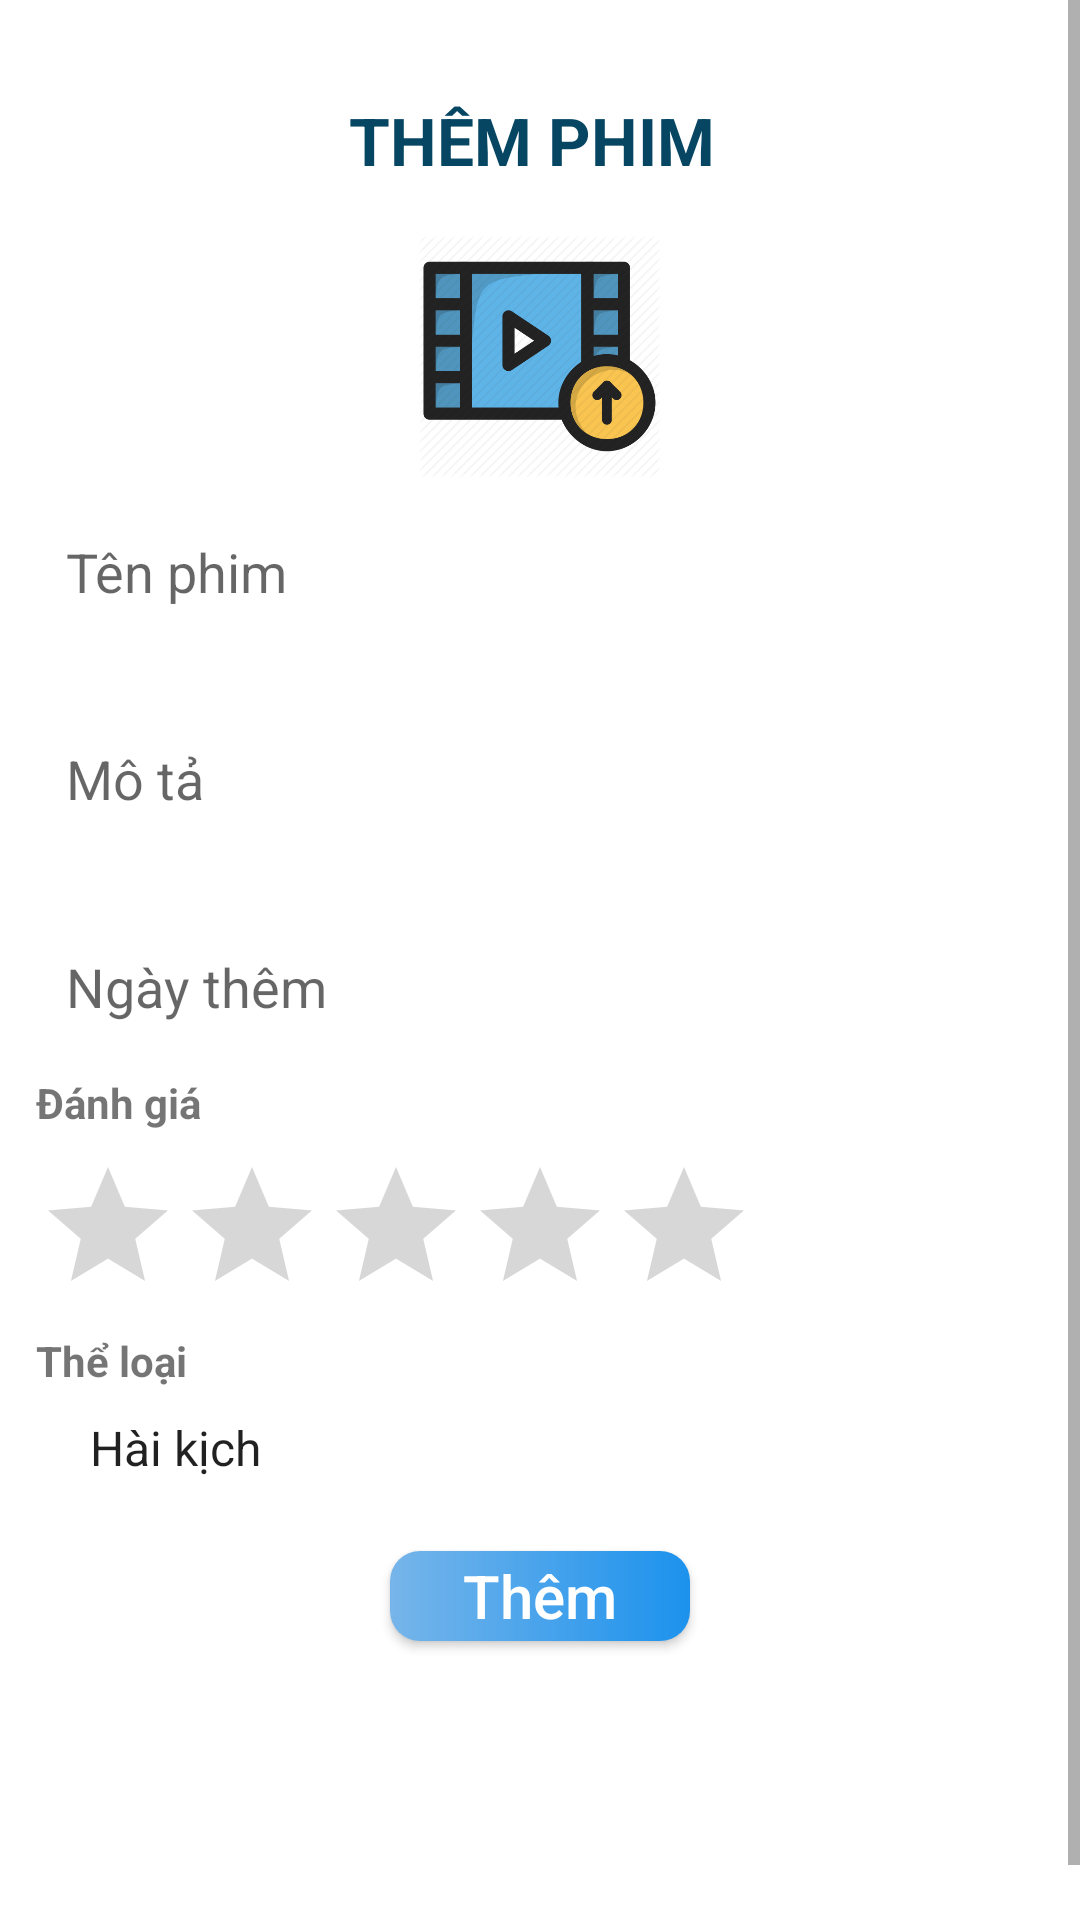

Screen size 1080 x 1920. Icon name, then its center in pixels as point (x, y):
movie add: point (539, 356)
